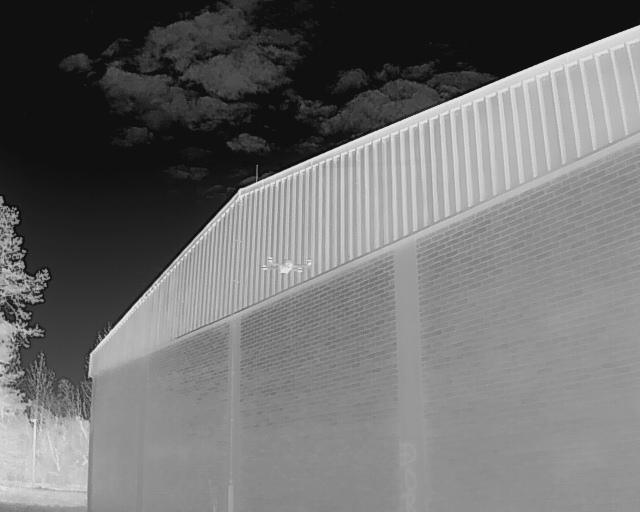drone: (255, 243, 318, 293)
